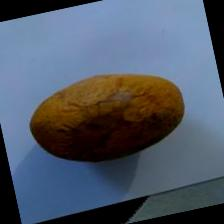Orange Rotten: (17, 43, 202, 177)
